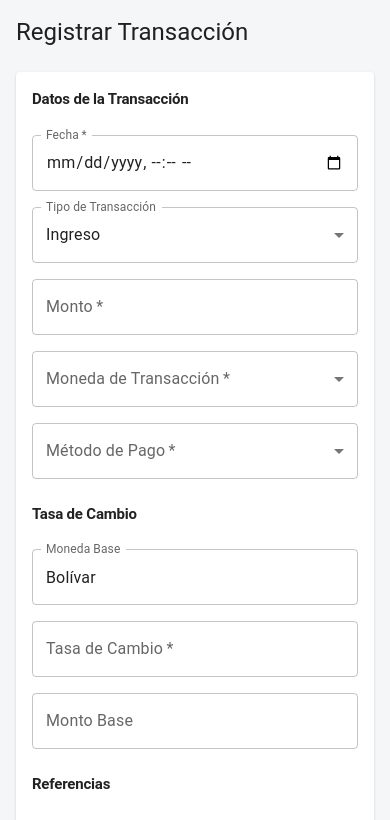
TransaccionFinancieraFormPage (react-hook-form + zod) › solo lista monedas y métodos de pago activos
Expected: the field labelled "Moneda Base" holds "Bolívar", left=32, top=549, right=358, bottom=605
Press the mouse on the dropdown named "moneda de transacción" next to "Moneda de Transacción" at (195, 378), box left=32, top=350, right=358, bottom=406
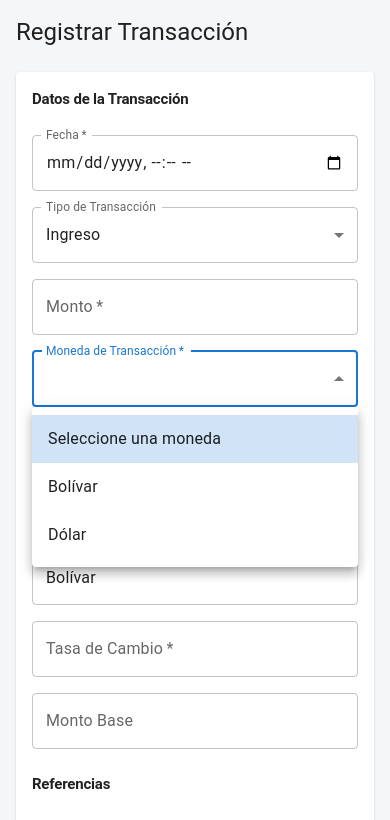
Expected: the option "Bolívar" is shown, left=48, top=477, right=98, bottom=496
Expected: the option "Dólar" is shown, left=48, top=525, right=86, bottom=544
